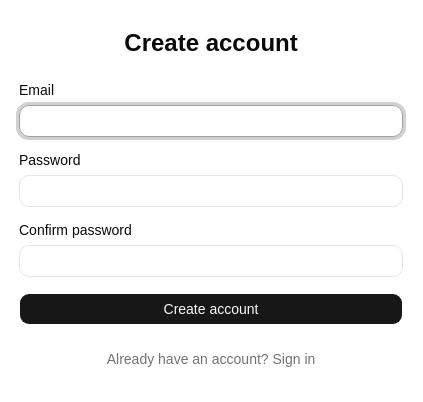
Test: SignUpPage › shows an account-creation error and stays on the form when signUp throws
Type "a@b.com" into the field labelled "Email" at (211, 121), box [19,105,403,137]
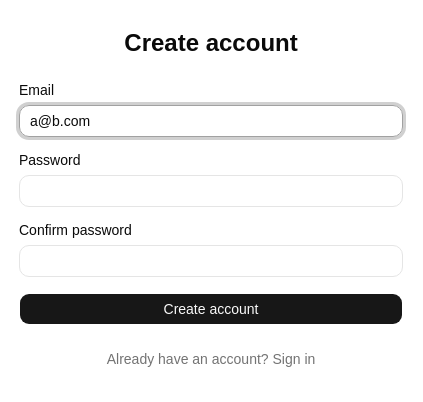
Type "password123" into the password field labelled "Password" at (211, 191), box [19,175,403,207]
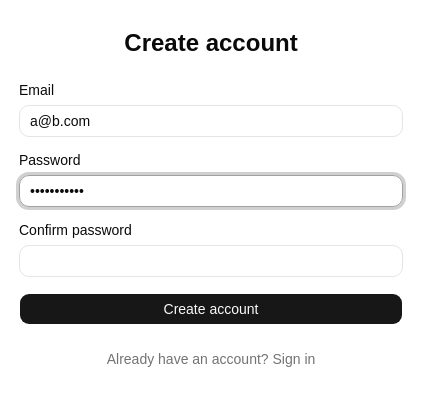
Type "password123" into the password field labelled "Confirm password" at (211, 261), box [19,245,403,277]
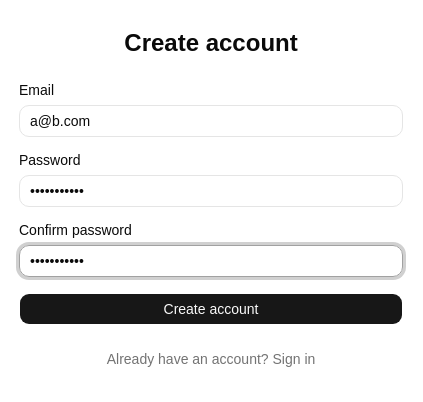
Click the button "Create account" at (211, 309), box [19,293,403,325]
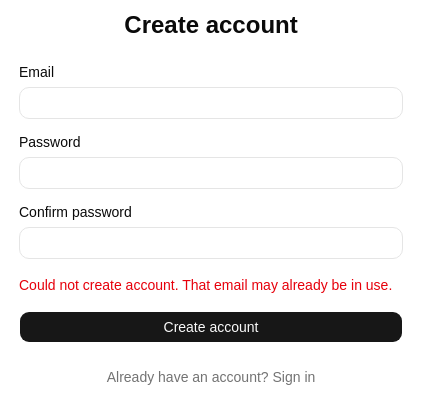
Check: the message reads "Could not create account. That email may already be in use.", box [19,277,392,293]
